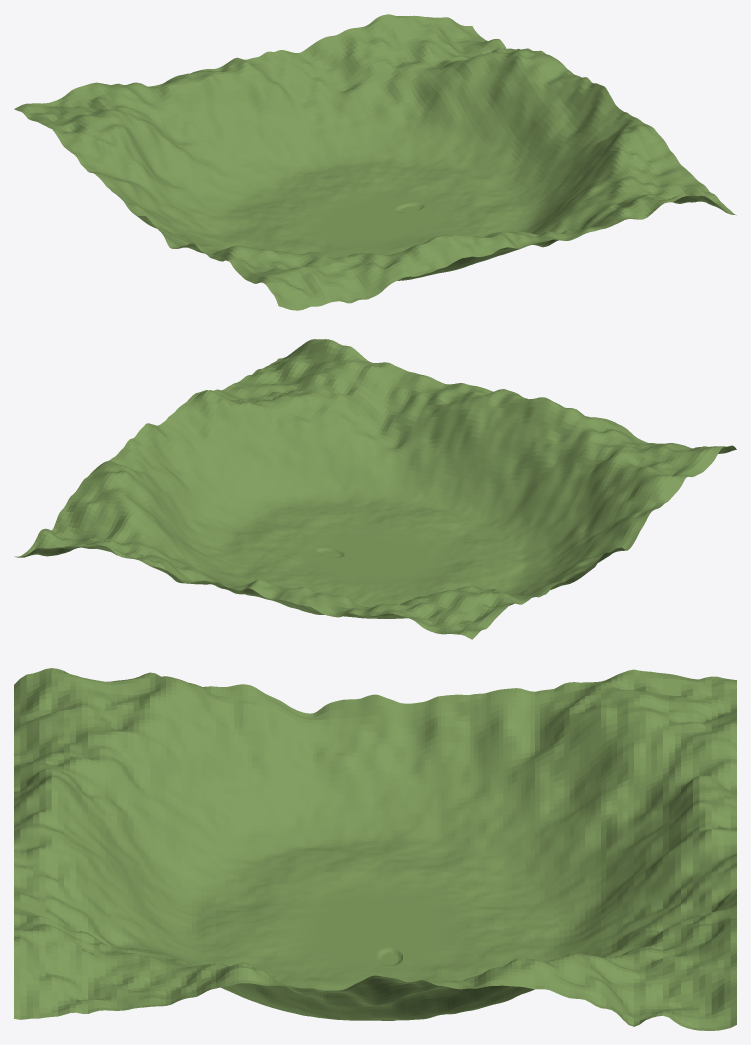
Rendered from Terrain.fbx.
3 views of the same model, one above another, from view 1: azimuth 30°, elevation 25°; view 2: azimuth 150°, elevation 25°; view 3: azimuth 270°, elevation 25° (orthographic). The views are drawn at different scales.
Visible parts, largest first — view 1: Terrain; view 2: Terrain; view 3: Terrain.
Part boxes in pixels (<box>): Terrain: <box>14,14,736,310</box>; Terrain: <box>14,339,736,639</box>; Terrain: <box>14,668,736,1030</box>.
Size of the model in its own units: 900 by 900 by 162.
